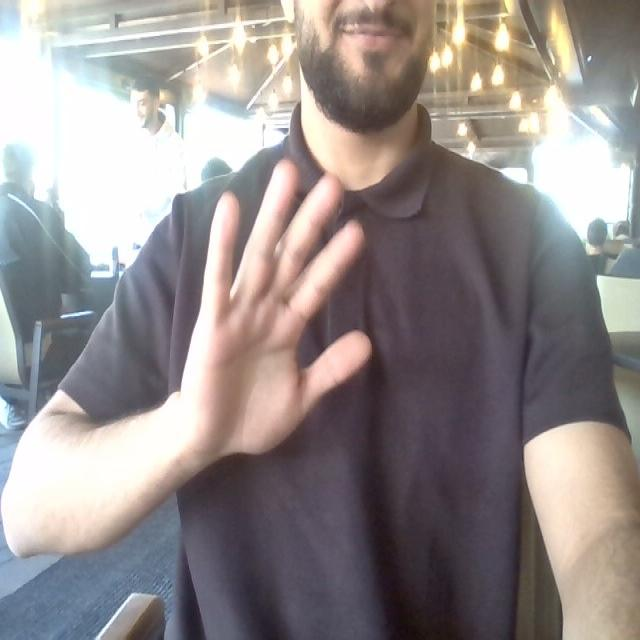Hand: (174, 160, 370, 466)
